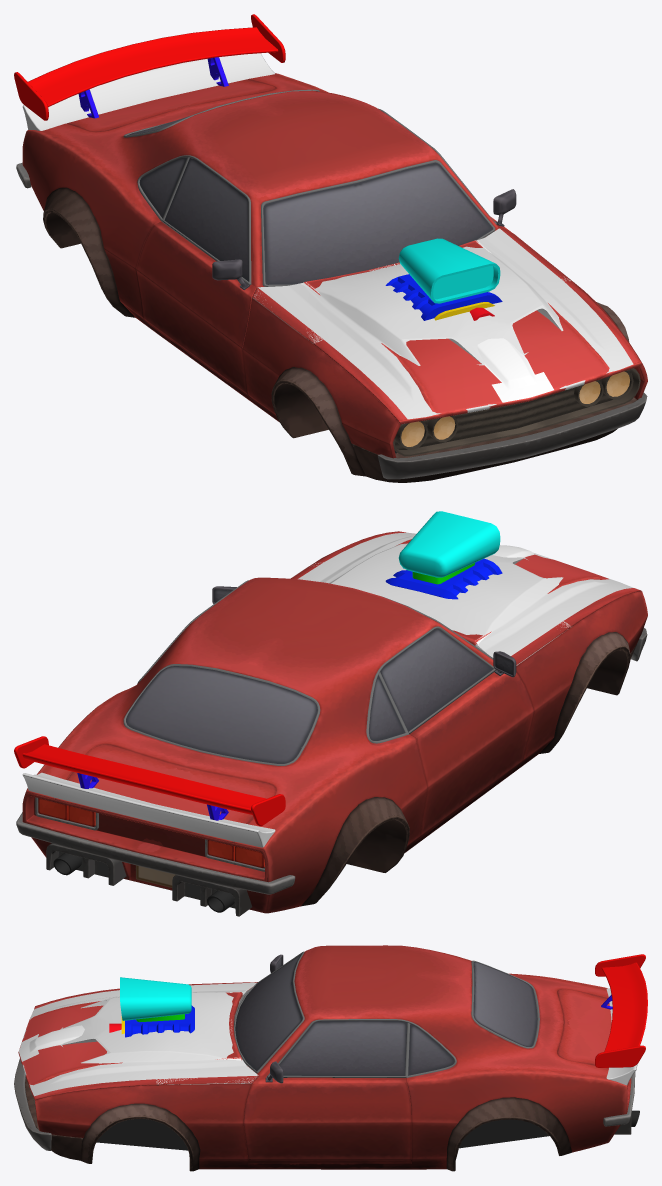
Rendered from car_with_modify.fbx.
3 views of the same model, one above another, from view 1: azimuth 30°, elevation 25°; view 2: azimuth 150°, elevation 25°; view 3: azimuth 270°, elevation 25° (orthographic). The views are drawn at different scales.
Visible parts, largest first — view 1: Base, Hood_modern2, Hood_standart, Hood_modern, spoiler2, spoiler; view 2: Base, Hood_modern2, Hood_modern, spoiler2, spoiler, Hood_standart, Highlights; view 3: Base, Hood_modern2, Hood_standart, Hood_modern, spoiler2, spoiler.
Part boxes in pixels (x1,y1,x2,y2): Base: (16, 73, 647, 482); Hood_modern2: (254, 228, 633, 419); Hood_standart: (252, 228, 641, 424); Hood_modern: (253, 238, 570, 402); spoiler2: (14, 14, 285, 120); spoiler: (22, 53, 275, 130); Base: (16, 539, 647, 916); Hood_modern2: (298, 532, 633, 657); Hood_modern: (315, 511, 569, 665); spoiler2: (14, 736, 285, 826); spoiler: (22, 772, 275, 847); Hood_standart: (291, 531, 641, 665); Highlights: (38, 798, 264, 868); Base: (14, 945, 639, 1171); Hood_modern2: (22, 982, 258, 1096); Hood_standart: (18, 982, 258, 1100); Hood_modern: (19, 977, 251, 1084); spoiler2: (595, 954, 647, 1067); spoiler: (606, 988, 640, 1085).
Bounding box in the file's own units: 232 × 129 × 500.
